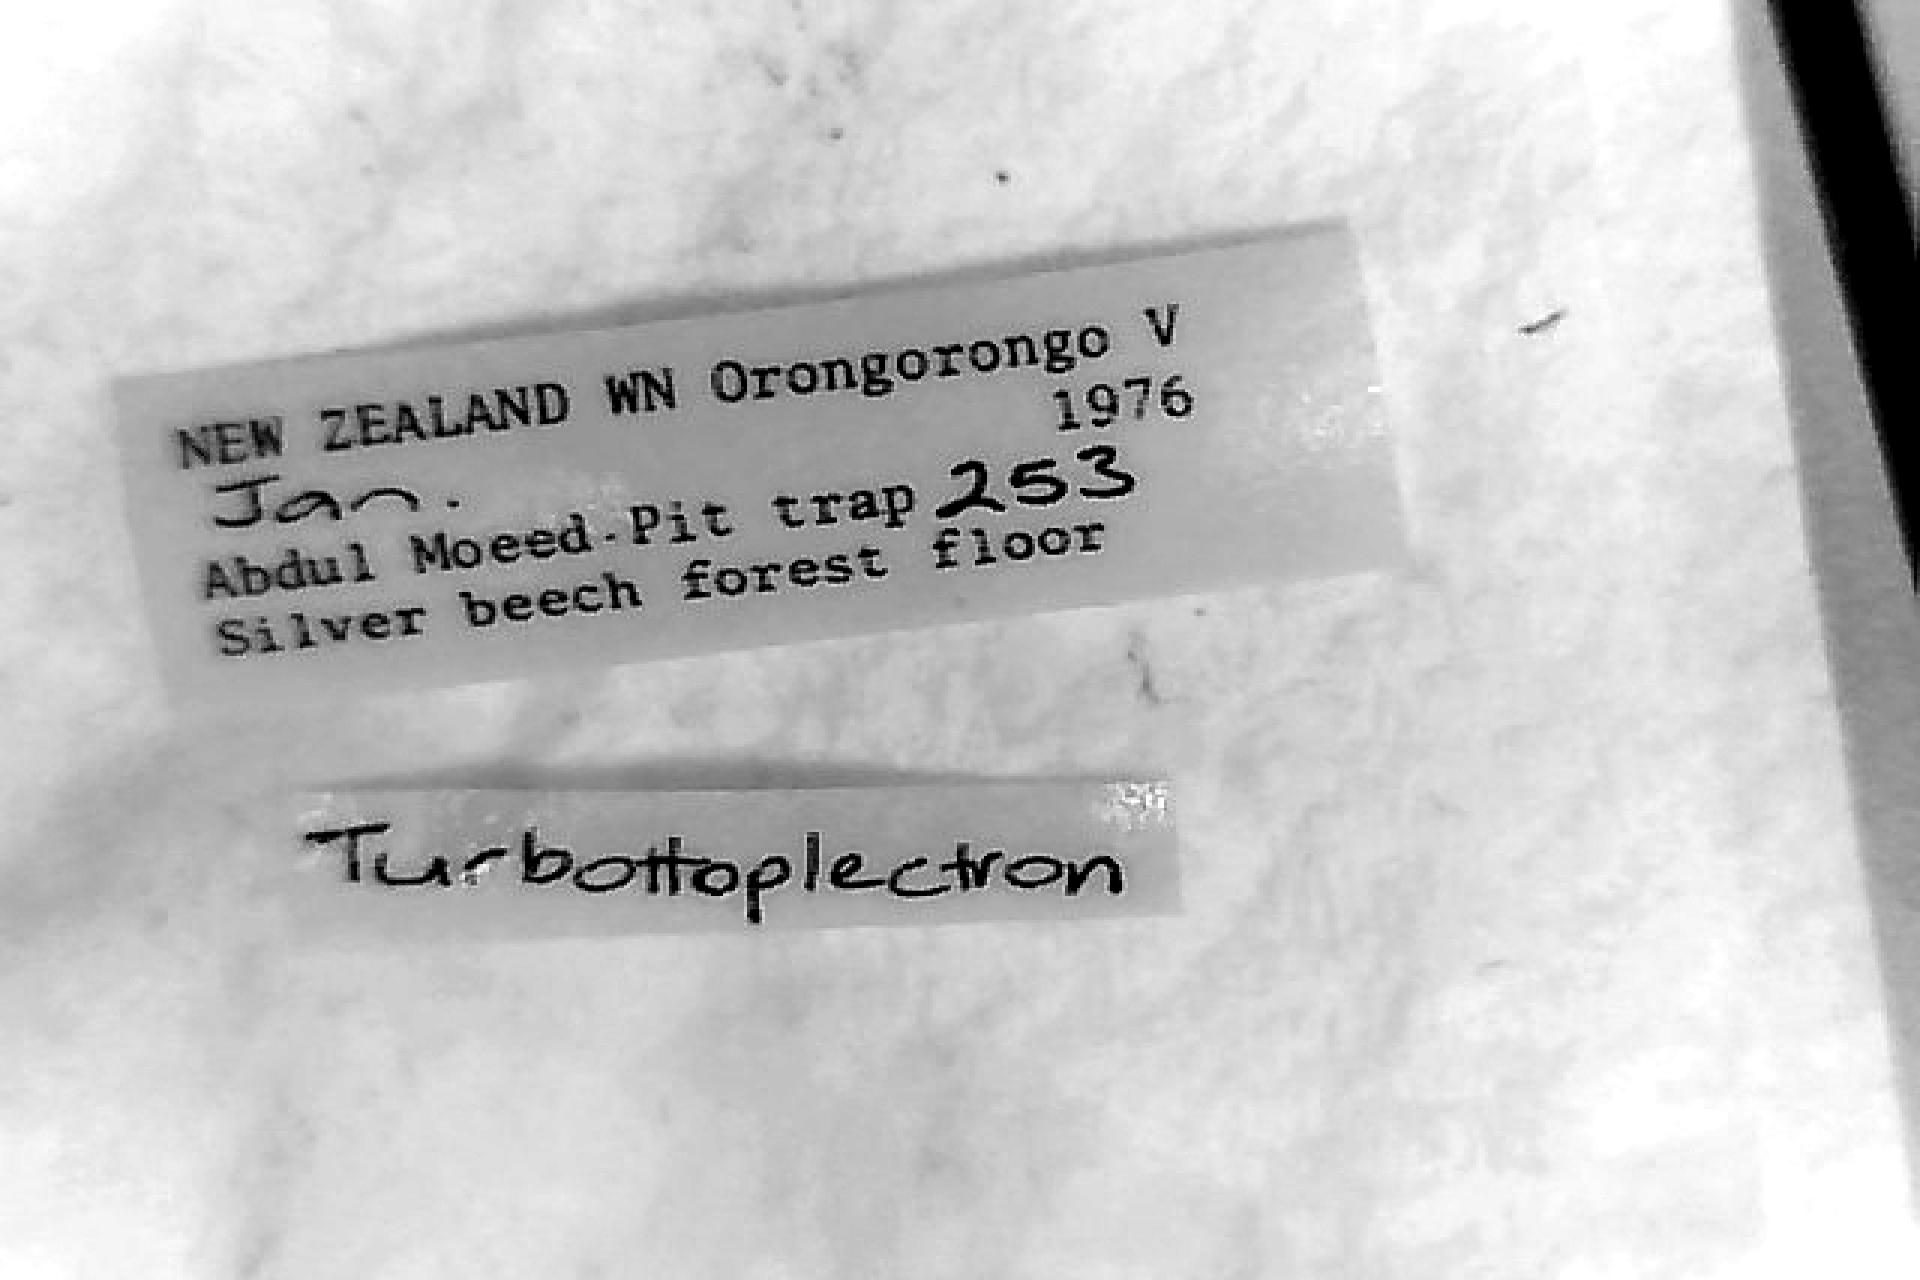hand_label: (300, 780, 1181, 934)
mixed_label: (121, 227, 1406, 699)
